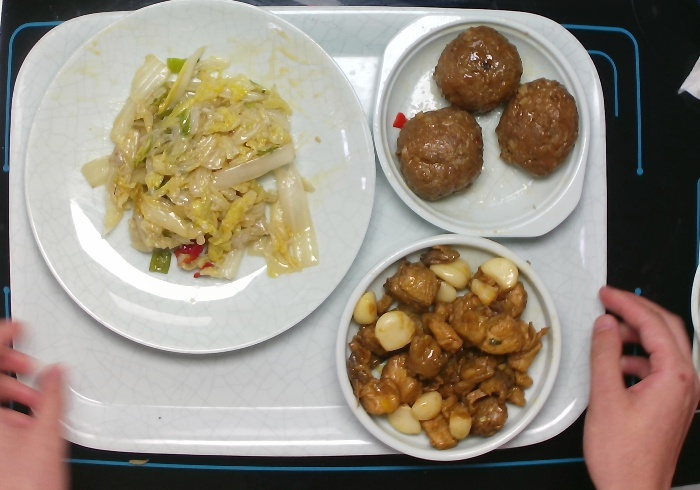JYsf-Da_Yuan_Pan: (22, 1, 377, 355)
JYsf-Shuang_Er_Pan: (371, 12, 592, 239)
JYsf-Xiao_Yuan_Pan: (334, 232, 563, 462)
